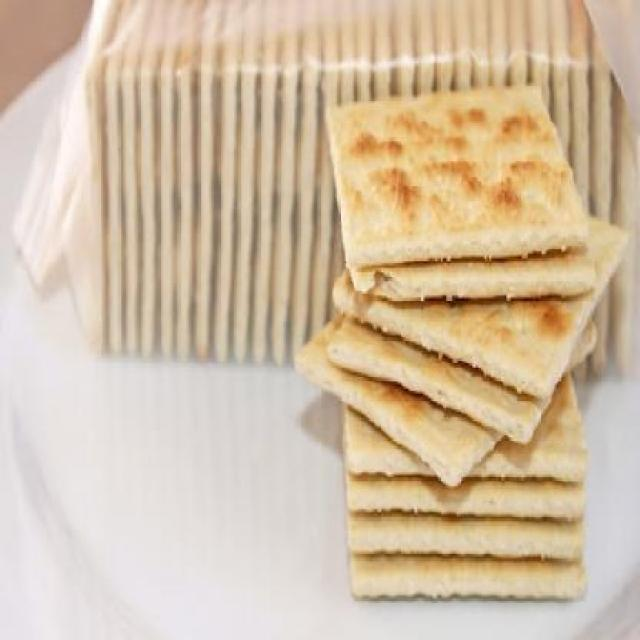Cracker packaged: (318, 77, 632, 626)
